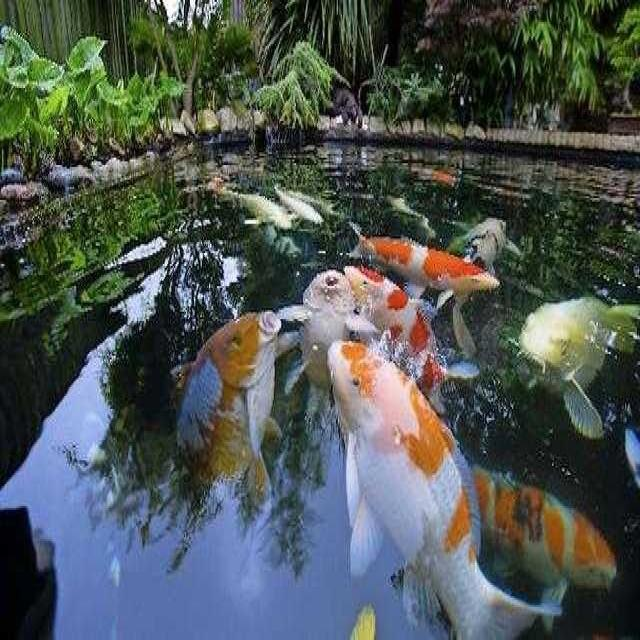Ponds: (2, 106, 639, 640)
